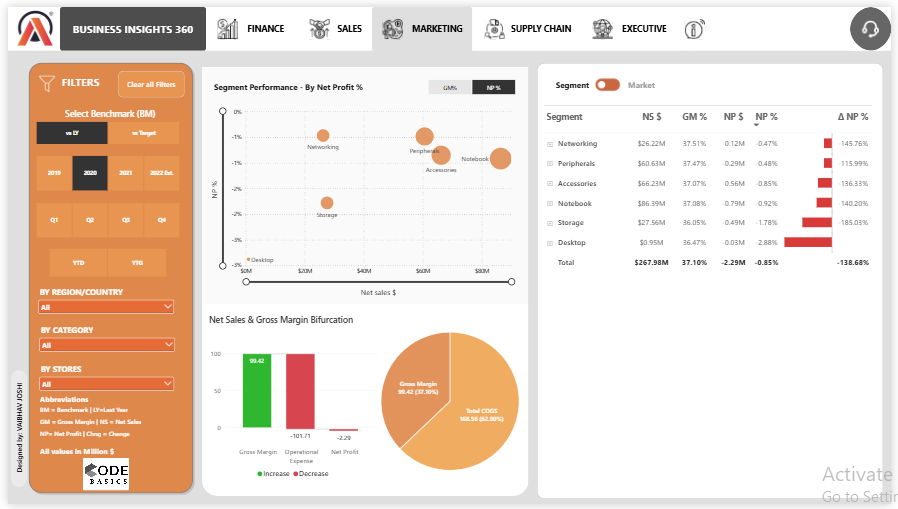

Layout of this report page (visuals, bound fields, positions):
{"tool":"powerbi","page":{"name":"Marketing View","canvas":[1920,1080],"ordinal":3},"visuals":[{"type":"shape","box":[8.9,2.5,320,67.5],"z":0,"group":"g4"},{"type":"shape","box":[18.9,12.5,320,67.5],"z":0,"group":"g5"},{"type":"shape","box":[1150,122.5,752.5,947.5],"z":0},{"type":"shape","box":[1182,137.5,88.9,64.4],"z":0,"group":"g6"},{"type":"shape","box":[1331.4,137.5,88.9,64.4],"z":0,"group":"g7"},{"type":"image","title":"Toggle Segment ON","box":[1270.8,137.8,64.4,64.4],"z":0,"group":"g9"},{"type":"shape","box":[447,146,352,55],"z":0,"group":"g3"},{"type":"scatterChart","title":"NP% visual","fields":{"Category":["dim_product.segment","dim_product.category"],"Size":["Key Measures.Net sales $"],"X":["Key Measures.Net sales $"],"Y":["Key Measures.Net profit %"]},"box":[423.1,205.8,702.2,435.6],"z":0,"group":"g2"},{"type":"group","id":"g1","title":"Group 3","box":[70,864.3,265.7,74.3],"z":0,"group":"g8"},{"type":"shape","box":[70.3,864.3,264,24],"z":0,"group":"g1"},{"type":"group","id":"g2","title":"NP% group","box":[423.1,205.8,702.2,435.6],"z":1000,"group":"g9"},{"type":"shape","box":[70,835.8,237.5,33.8],"z":1000,"group":"g8"},{"type":"shape","box":[70,890.6,264.3,22.9],"z":1000,"group":"g1"},{"type":"group","id":"g3","title":"Group 2","box":[447,146,352,55],"z":2000,"group":"g9"},{"type":"shape","box":[70,915.7,265.7,22.9],"z":2000,"group":"g1"},{"type":"textbox","box":[1830,0,90,95],"z":3000},{"type":"slicer","fields":{"Values":["PARAM MRKT 01: Performance Matrix Y Axis.PARAM MRKT 01: Performance Matrix Y Axis"]},"box":[892.8,156.3,227.5,35],"z":3000,"group":"g9"},{"type":"group","id":"g4","title":"Group 2","box":[8.9,2.5,320,68.9],"z":4000},{"type":"pivotTable","title":"Profit & Loss Statement","fields":{"Rows":["dim_product.segment","category.category"],"Values":["Key Measures.Net sales $","Key Measures.Gross margin %","Key Measures.Net profit $","Key Measures.Net profit %","Key Measures.Net profit % BAR","Key Measures.Δ NP %"]},"box":[1160.6,210,745,855],"z":4000,"group":"g9"},{"type":"group","id":"g5","title":"Group 2","box":[18.9,12.5,320,68.9],"z":5000},{"type":"group","id":"g6","title":"Group 2","box":[1182,137.5,88.9,64.4],"z":5000,"group":"g9"},{"type":"textbox","box":[422.2,131.1,709,517.5],"z":6000},{"type":"group","id":"g7","title":"Group 2","box":[1331.4,137.5,88.9,64.4],"z":6000,"group":"g9"},{"type":"textbox","box":[0,0,1905,95],"z":7000},{"type":"shape","box":[422.5,645,710,417.5],"z":9000},{"type":"image","box":[15,7.5,90,77.5],"z":10000},{"type":"pieChart","fields":{"Series":["P & L Rows.Description"],"Y":["Key Measures.P & L Values"]},"box":[655.6,637.8,608.9,442.2],"z":11000},{"type":"actionButton","box":[112.5,0,317.5,95],"z":12000},{"type":"waterfallChart","fields":{"Category":["P & L Rows.Description"],"Y":["Key Measures.P & L Values"]},"box":[424.4,728.9,395.6,317.8],"z":13000},{"type":"actionButton","box":[432.5,0,197.5,95],"z":14000},{"type":"actionButton","box":[632.5,0,157.5,95],"z":15000},{"type":"shape","box":[437.8,651.1,331.1,55.6],"z":16000},{"type":"actionButton","box":[792,0,218,96],"z":17000},{"type":"actionButton","box":[1012.5,0,232.5,95],"z":18000},{"type":"actionButton","box":[1247.5,0,205,95],"z":19000},{"type":"actionButton","box":[1830,0,90,95],"z":20000},{"type":"actionButton","box":[1455,0,77.5,95],"z":21000},{"type":"shape","box":[38.1,114.3,369,947.6],"z":22000},{"type":"shape","box":[70,947.5,238,32],"z":23000},{"type":"slicer","fields":{"Values":["dim_date.Quarter"]},"box":[40.5,423.8,350,78.6],"z":24000},{"type":"slicer","fields":{"Values":["dim_date.YTD_YTG"]},"box":[69,523.8,292.9,64.3],"z":25000},{"type":"slicer","fields":{"Values":["dim_market.region","dim_market.market"]},"box":[61.9,605.8,304.8,78.6],"z":26000},{"type":"slicer","fields":{"Values":["dim_customer.customer"]},"box":[62.5,774.5,302.5,77.5],"z":27000},{"type":"slicer","fields":{"Values":["dim_product.category"]},"box":[62.5,689.5,305,80],"z":28000},{"type":"slicer","fields":{"Values":["Set BM.Benchmarks"]},"box":[40.5,247.6,350,52],"z":29000},{"type":"actionButton","box":[240,140,145,57.5],"z":30000},{"type":"textbox","title":"FILTERS","box":[104.8,147.6,107.1,35.7],"z":31000},{"type":"image","box":[61.9,147.6,47.6,38.1],"z":32000},{"type":"slicer","fields":{"Values":["Fiscal Year.FY_desc"]},"box":[40.5,322.2,350,78.6],"z":33000},{"type":"textbox","title":"Select Benchmark (BM)","box":[78.6,219,288.1,38.1],"z":34000},{"type":"image","box":[162.5,980,100,70],"z":35000},{"type":"group","id":"g8","title":"Group 5","box":[70,835.8,265,102.5],"z":36000},{"type":"actionButton","title":"AB Signature","box":[7.5,790,35,255],"z":37000},{"type":"group","id":"g9","title":"Segment View","box":[423.1,137.5,1482.5,927.5],"z":38000}]}

Visuals, with their boxes in screenshot pixels (x1, y1, x2, y2), scaled from the page's 1920x1080 canvas onto the 898x509 screenshot:
shape: 4:1:154:33
shape: 9:6:159:38
shape: 538:58:890:504
shape: 553:65:594:95
shape: 623:65:664:95
"Toggle Segment ON" image: 594:65:624:95
shape: 209:69:374:95
"NP% visual" scatterChart: 198:97:526:302
"Group 3" group: 33:407:157:442
shape: 33:407:156:419
"NP% group" group: 198:97:526:302
shape: 33:394:144:410
shape: 33:420:156:431
"Group 2" group: 209:69:374:95
shape: 33:432:157:442
textbox: 856:0:897:45
slicer - PARAM MRKT 01: Performance Matrix Y Axis.PARAM MRKT 01: Performance Matrix Y Axis: 418:74:524:90
"Group 2" group: 4:1:154:34
"Profit & Loss Statement" pivotTable: 543:99:891:502
"Group 2" group: 9:6:159:38
"Group 2" group: 553:65:594:95
textbox: 197:62:529:306
"Group 2" group: 623:65:664:95
textbox: 0:0:891:45
shape: 198:304:530:501
image: 7:4:49:40
pieChart - P & L Rows.Description x Key Measures.P & L Values: 307:301:591:508
actionButton: 53:0:201:45
waterfallChart - P & L Rows.Description x Key Measures.P & L Values: 198:344:384:493
actionButton: 202:0:295:45
actionButton: 296:0:369:45
shape: 205:307:360:333
actionButton: 370:0:472:45
actionButton: 474:0:582:45
actionButton: 583:0:679:45
actionButton: 856:0:897:45
actionButton: 681:0:717:45
shape: 18:54:190:500
shape: 33:447:144:462
slicer - dim_date.Quarter: 19:200:183:237
slicer - dim_date.YTD_YTG: 32:247:169:277
slicer - dim_market.region x dim_market.market: 29:286:172:323
slicer - dim_customer.customer: 29:365:171:402
slicer - dim_product.category: 29:325:172:363
slicer - Set BM.Benchmarks: 19:117:183:141
actionButton: 112:66:180:93
"FILTERS" textbox: 49:70:99:86
image: 29:70:51:88
slicer - Fiscal Year.FY_desc: 19:152:183:189
"Select Benchmark (BM)" textbox: 37:103:172:121
image: 76:462:123:495
"Group 5" group: 33:394:157:442
"AB Signature" actionButton: 4:372:20:493
"Segment View" group: 198:65:891:502
